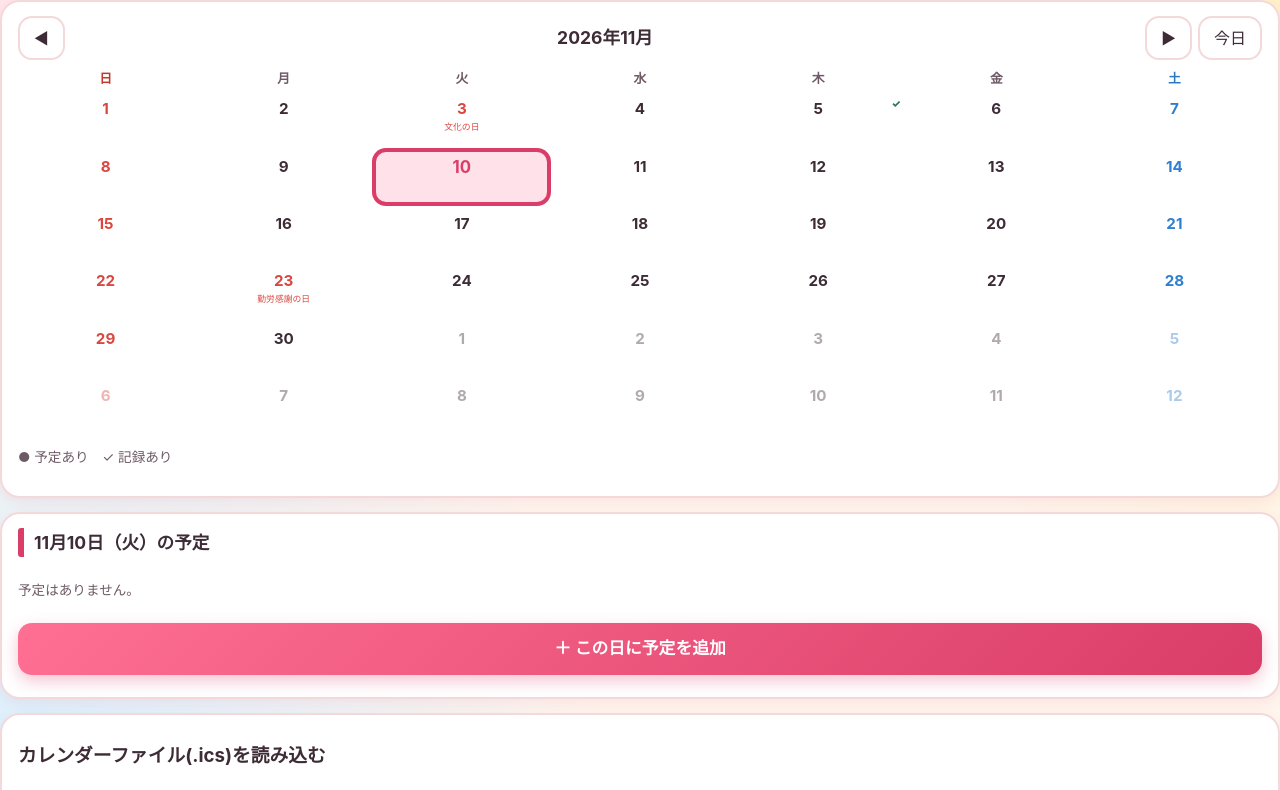
カレンダー画面 › 記録のある日に印が付く。前の月・次の月に移動できる
The width and height of the screenshot is (1280, 790).
expect the cell named "11月5日（木） 記録あり" is shown: met, box top-left (731, 92), bottom-right (906, 147)
Click the button named "次の月" at (1169, 38), box top-left (1145, 16), bottom-right (1192, 60)
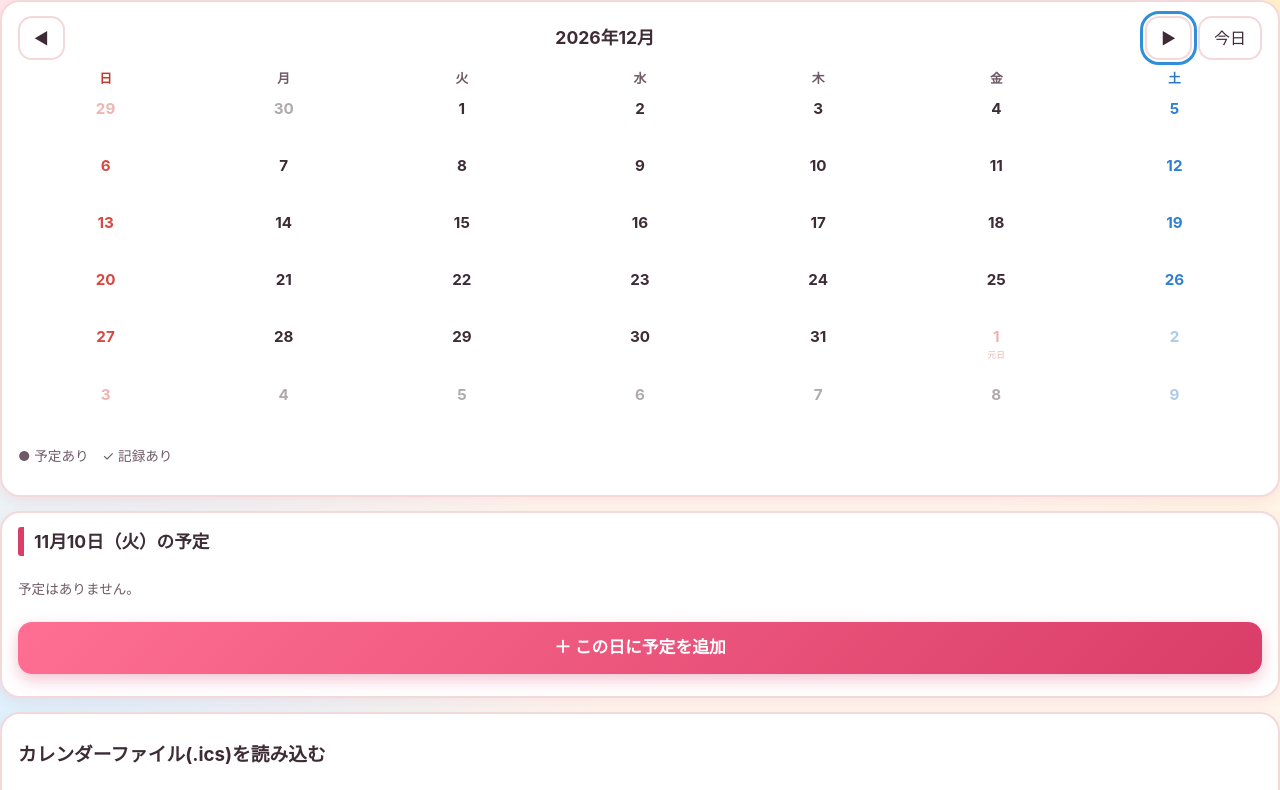
expect the heading "2026年12月" is shown: met, box top-left (555, 28), bottom-right (655, 48)
Click the button named "前の月" at (41, 38), box top-left (18, 16), bottom-right (65, 60)
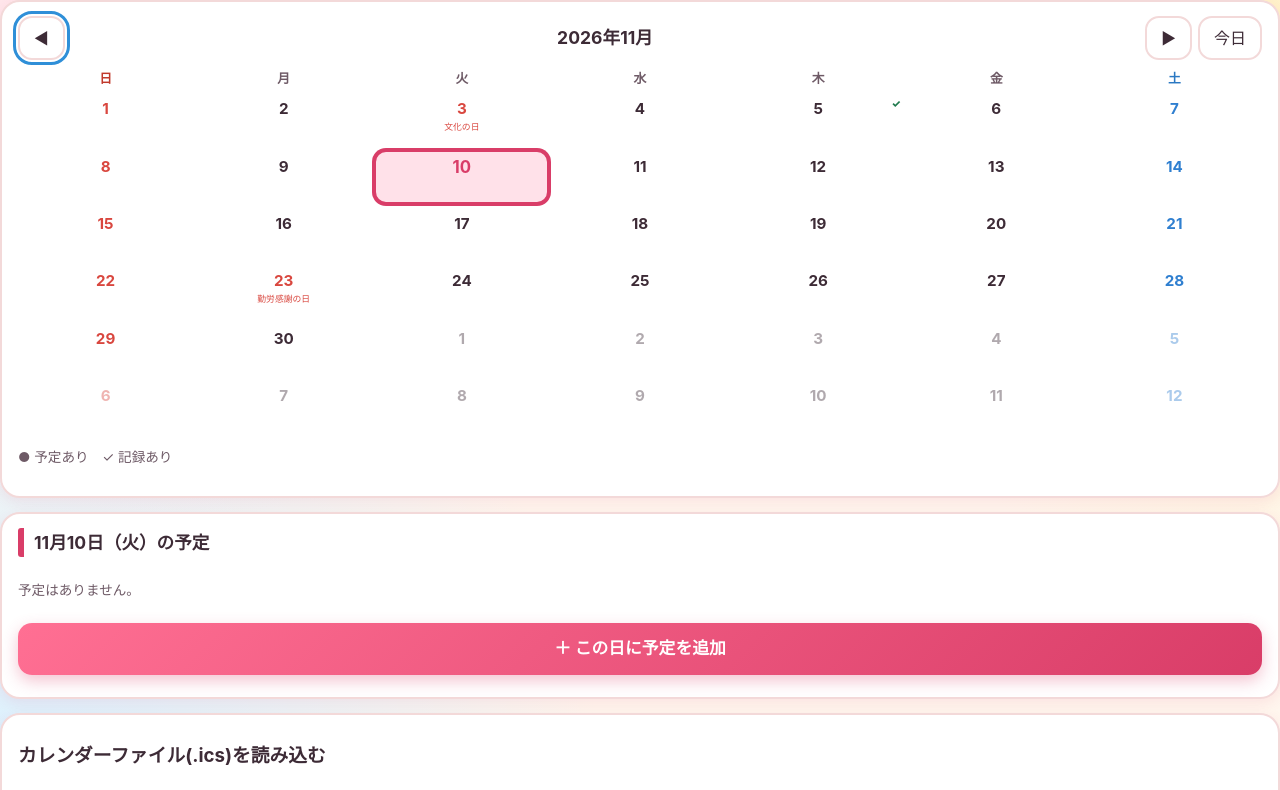
Click the button named "前の月" at (41, 38), box top-left (18, 16), bottom-right (65, 60)
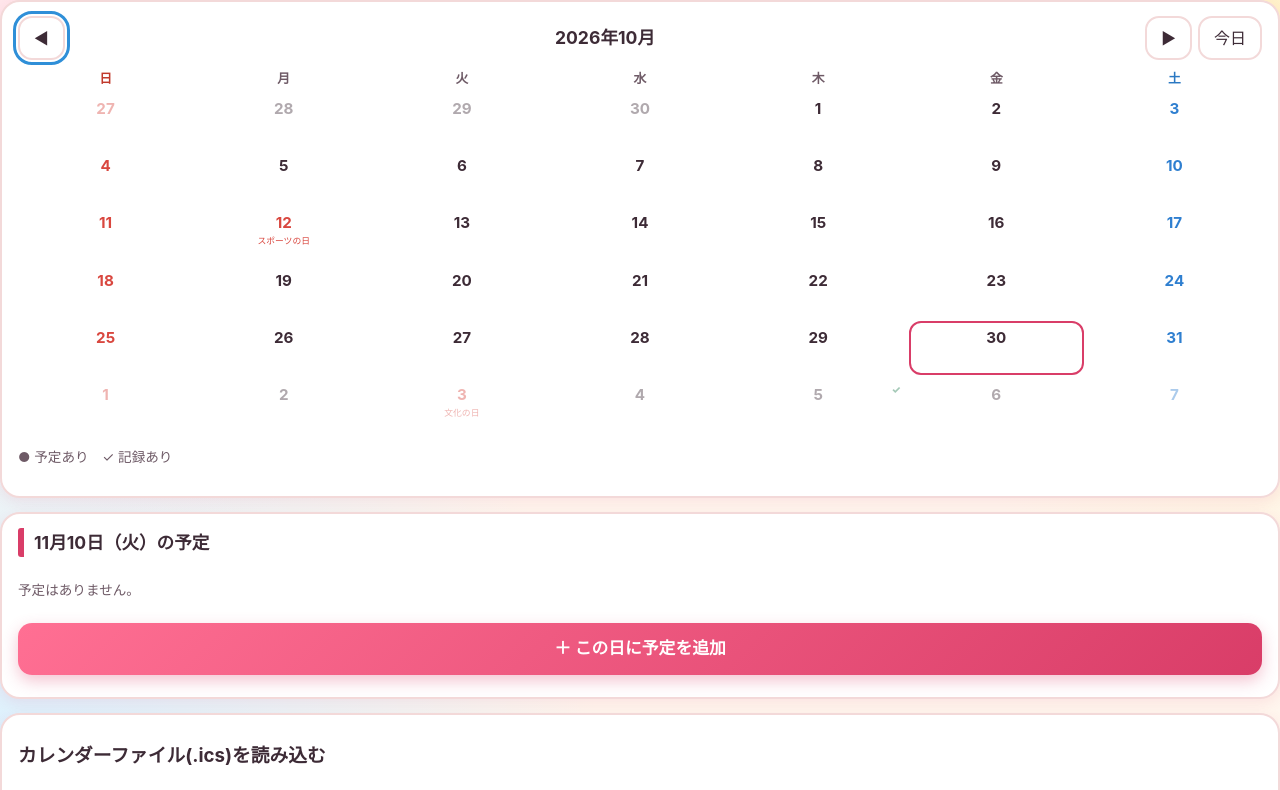
expect the heading "2026年10月" is shown: met, box top-left (555, 28), bottom-right (655, 48)
